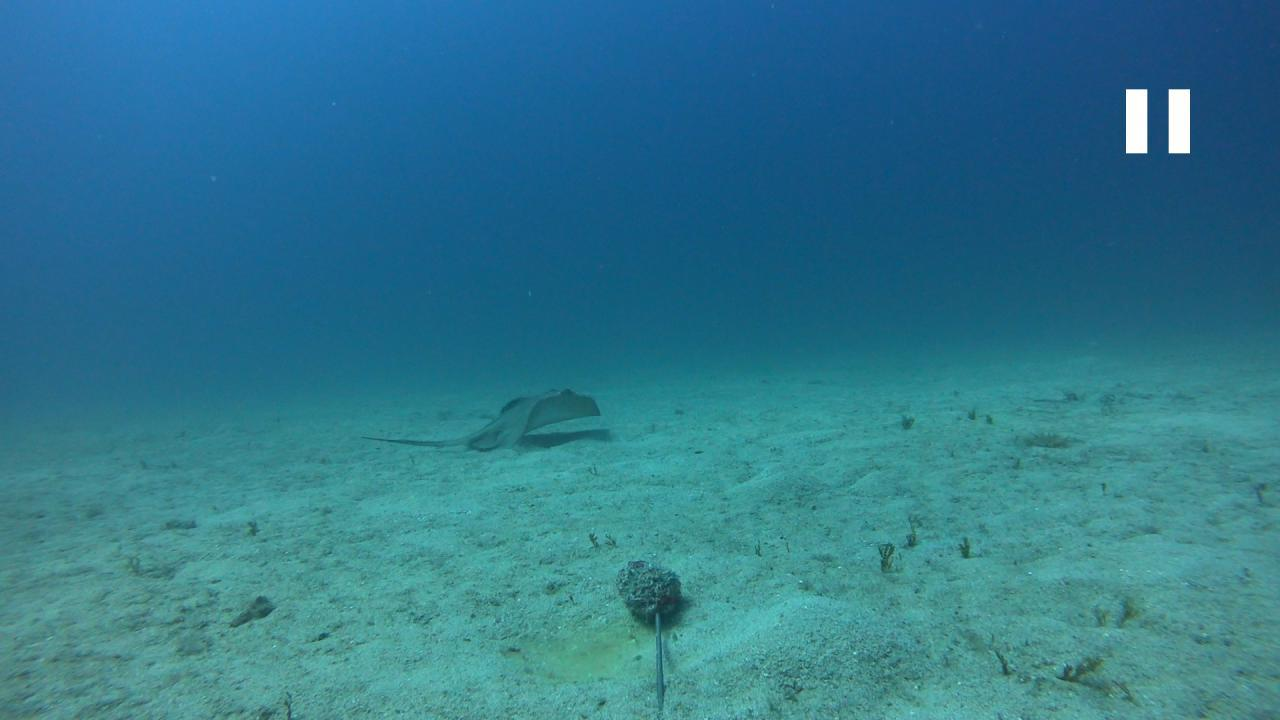dasyatis: (358, 386, 602, 451)
